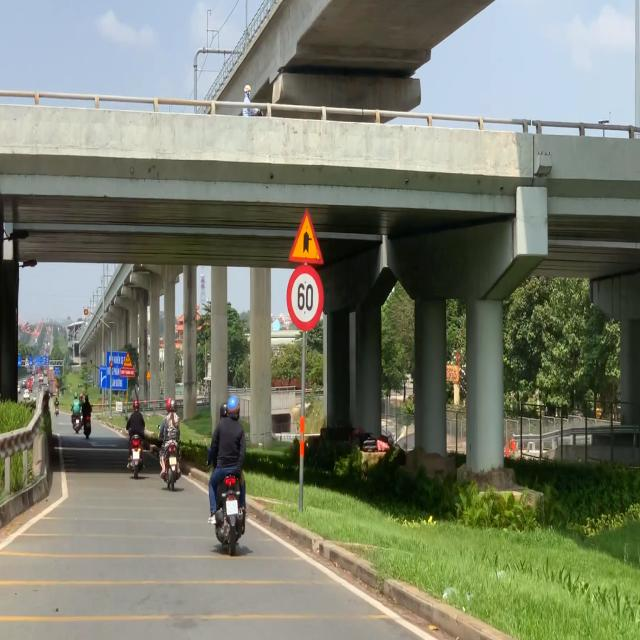Giao voi duong khong uu tien: (288, 207, 324, 266)
Nguy hiem: (123, 352, 132, 367)
Toc do toi da: (286, 264, 324, 332)
